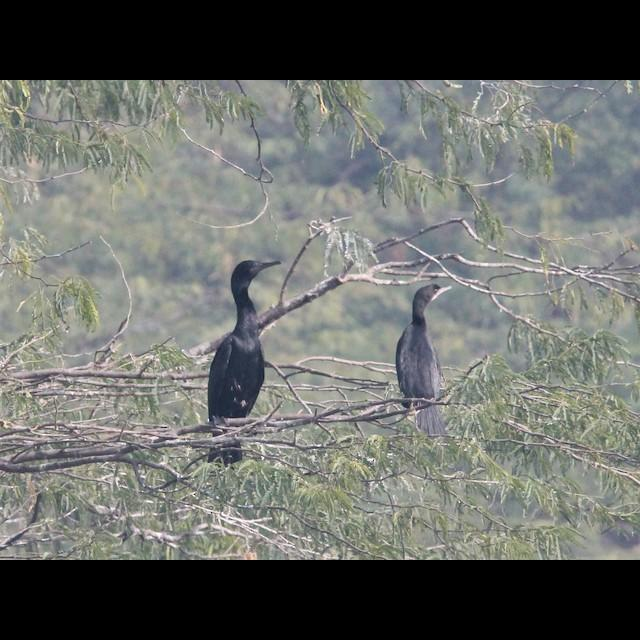cormorant: (199, 244, 279, 458), (392, 277, 458, 425)
